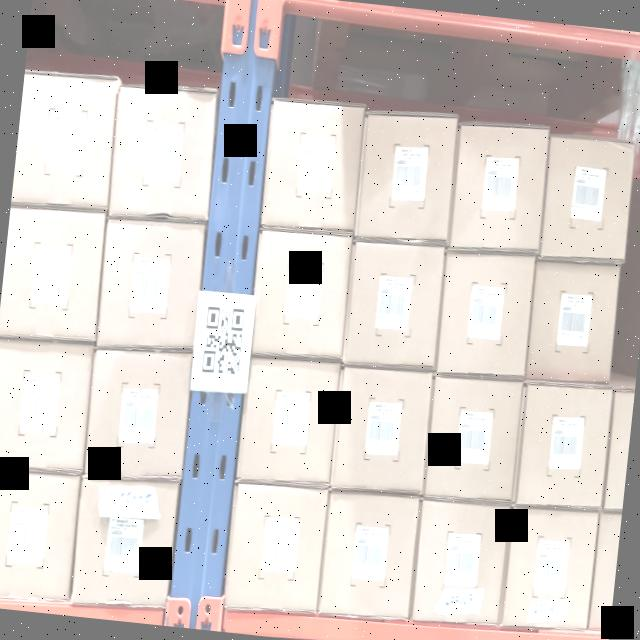box: (11, 70, 117, 210), (110, 84, 216, 216), (85, 350, 192, 480), (0, 208, 106, 339), (237, 356, 341, 489), (96, 222, 205, 348), (355, 110, 457, 244), (249, 230, 353, 360), (70, 480, 177, 606), (262, 100, 363, 233), (223, 485, 328, 612), (332, 364, 432, 494), (448, 124, 547, 253), (0, 338, 93, 474), (318, 493, 419, 618), (342, 245, 446, 366), (426, 376, 522, 504), (514, 382, 610, 509), (410, 501, 509, 624), (434, 256, 534, 376), (540, 136, 633, 262), (502, 508, 598, 628), (525, 262, 619, 382), (0, 471, 80, 599)
